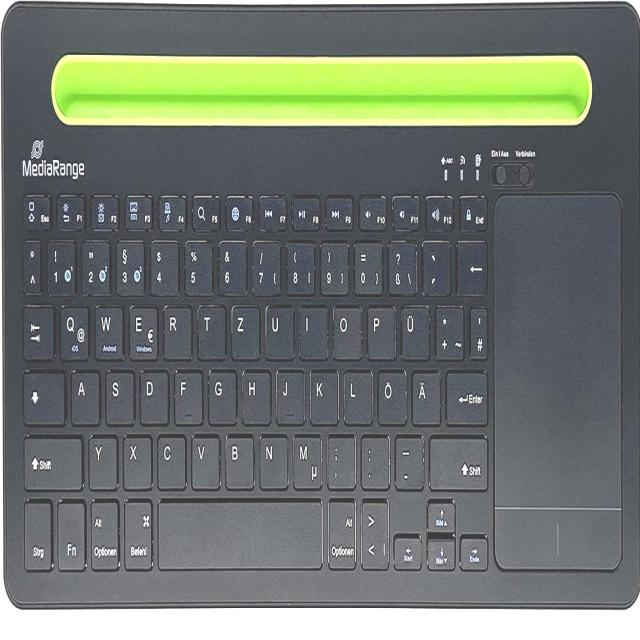0: (352, 236, 382, 293)
1: (45, 236, 75, 295)
2: (79, 235, 109, 294)
3: (113, 236, 144, 295)
4: (148, 235, 178, 293)
5: (182, 235, 212, 294)
6: (216, 236, 246, 294)
7: (250, 236, 280, 295)
8: (284, 237, 314, 294)
9: (318, 237, 348, 294)
a: (68, 366, 99, 423)
accent: (420, 235, 449, 293)
ae: (409, 365, 440, 424)
alt-left: (88, 494, 118, 570)
altgr-right: (326, 497, 356, 574)
b: (222, 429, 253, 488)
c: (154, 430, 184, 488)
caret: (20, 236, 40, 293)
comma: (324, 429, 354, 488)
d: (137, 365, 167, 424)
del: (455, 235, 488, 293)
e: (126, 300, 157, 358)
enter: (445, 369, 489, 428)
f: (172, 364, 201, 423)
g: (206, 365, 236, 424)
h: (239, 365, 269, 424)
hash: (468, 302, 488, 359)
i: (298, 301, 327, 358)
j: (274, 364, 304, 423)
k: (307, 365, 338, 424)
keyboard: (2, 2, 640, 607)
l: (342, 365, 372, 424)
less: (358, 495, 388, 572)
m: (290, 429, 320, 489)
minus: (392, 431, 423, 488)
n: (257, 429, 287, 488)
o: (330, 301, 360, 359)
oe: (375, 365, 405, 424)
p: (364, 300, 394, 359)
plus: (433, 300, 463, 359)
point: (358, 429, 389, 487)
q: (57, 300, 88, 359)
r: (160, 301, 191, 359)
s: (102, 365, 133, 424)
shift-left: (20, 430, 81, 489)
shift-lock: (20, 366, 64, 423)
shift-right: (428, 430, 488, 491)
space: (156, 493, 321, 570)
ss: (385, 236, 415, 294)
strg-left: (21, 495, 51, 571)
t: (195, 300, 225, 358)
tab: (20, 300, 53, 360)
u: (262, 300, 293, 359)
ue: (398, 300, 429, 360)
v: (189, 430, 219, 487)
w: (92, 299, 122, 358)
x: (120, 429, 151, 488)
y: (86, 429, 116, 488)
z: (229, 300, 258, 359)
